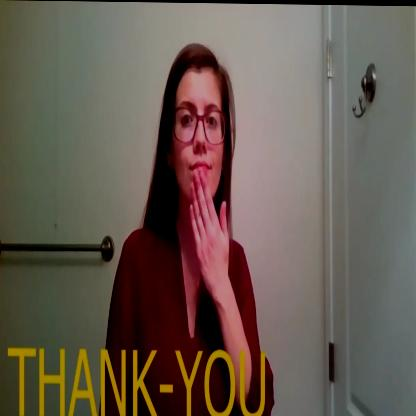ThankYou: (162, 37, 238, 322)
